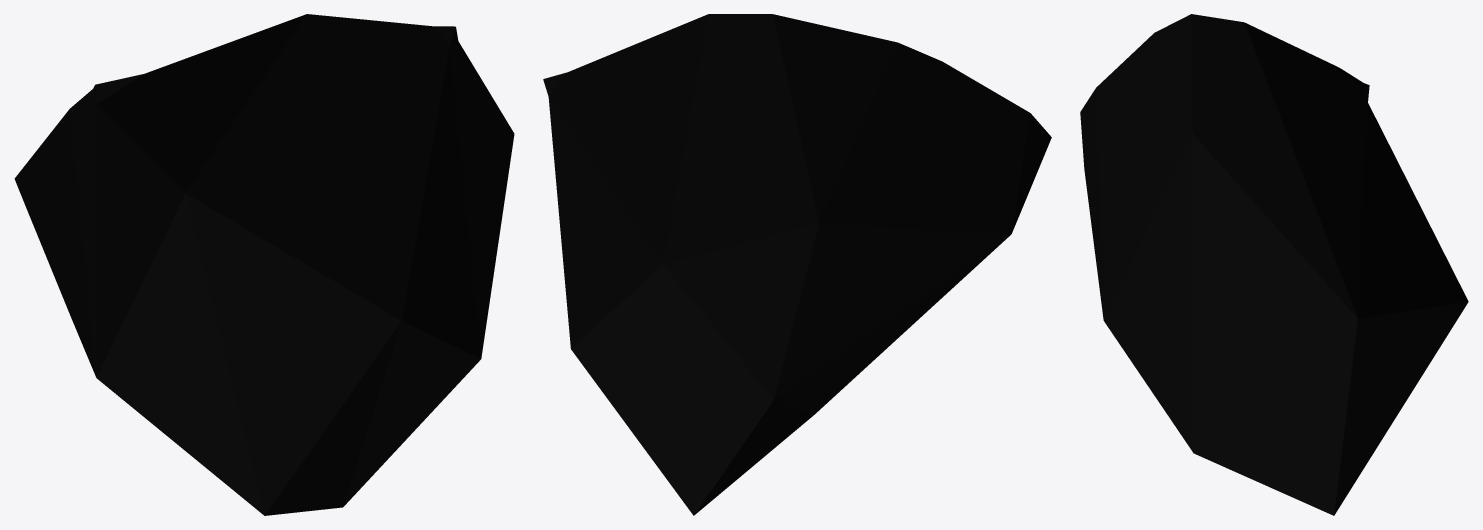
3 views of the same model, side by side, from view 1: azimuth 30°, elevation 25°; view 2: azimuth 150°, elevation 25°; view 3: azimuth 270°, elevation 25° (orthographic). The views are drawn at different scales.
Size of the model in its own units: 0.2927 by 0.2488 by 0.2358.
1 material, 1 textured.
